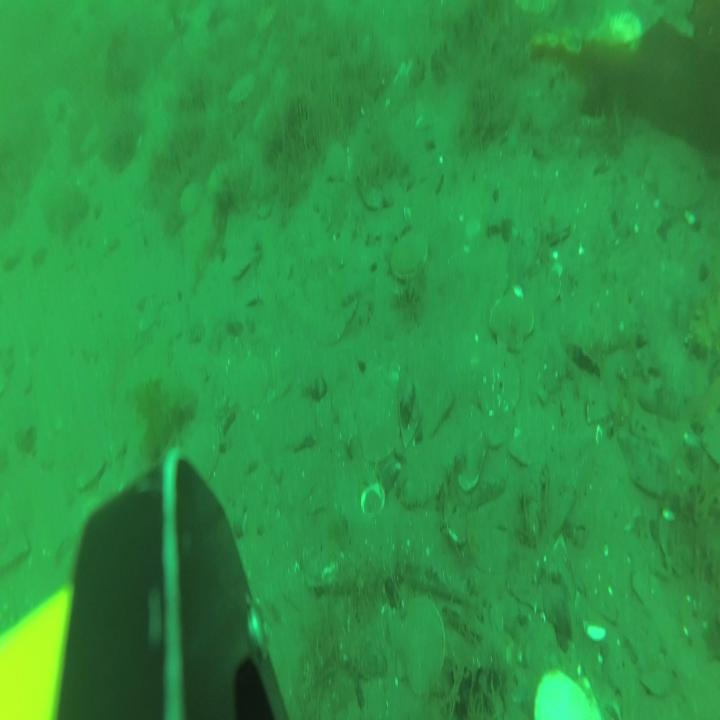scallop: (392, 596, 447, 696), (648, 132, 706, 213), (355, 372, 403, 468), (478, 346, 524, 418), (181, 420, 222, 490), (489, 293, 535, 354), (230, 353, 269, 412), (594, 13, 642, 53), (393, 234, 430, 284), (642, 649, 676, 698), (229, 74, 261, 110), (322, 140, 348, 183), (179, 178, 204, 220)
